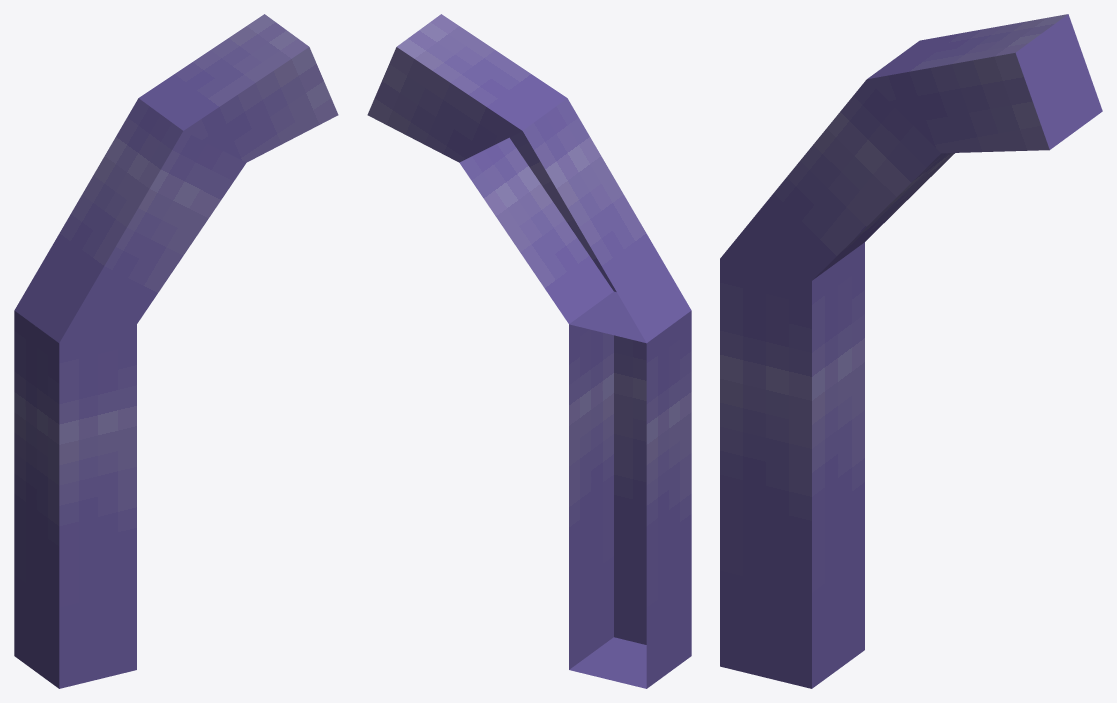
File: WaterFlow.fbx
3 renders of one model, left to right at view 1: azimuth 30°, elevation 25°; view 2: azimuth 150°, elevation 25°; view 3: azimuth 330°, elevation 25°, orthographic. The views are drawn at different scales.
Parts seen in each view (by area): view 1: WaterFlow, WaterFlow_selection, WaterFlow_selection_1; view 2: WaterFlow, WaterFlow_selection, WaterFlow_selection_1; view 3: WaterFlow, WaterFlow_selection_1, WaterFlow_selection.
Boxes of the visible parts, <box> form: WaterFlow: <box>14,310,136,688</box>; WaterFlow_selection: <box>14,98,246,343</box>; WaterFlow_selection_1: <box>139,14,338,162</box>; WaterFlow: <box>569,291,691,688</box>; WaterFlow_selection: <box>459,98,691,342</box>; WaterFlow_selection_1: <box>367,14,566,162</box>; WaterFlow: <box>720,242,864,688</box>; WaterFlow_selection_1: <box>867,14,1102,153</box>; WaterFlow_selection: <box>720,79,954,280</box>.
Bounding box in the file's own units: 89.85 × 179 × 25.
Materials: 3 (3 with a texture image).
